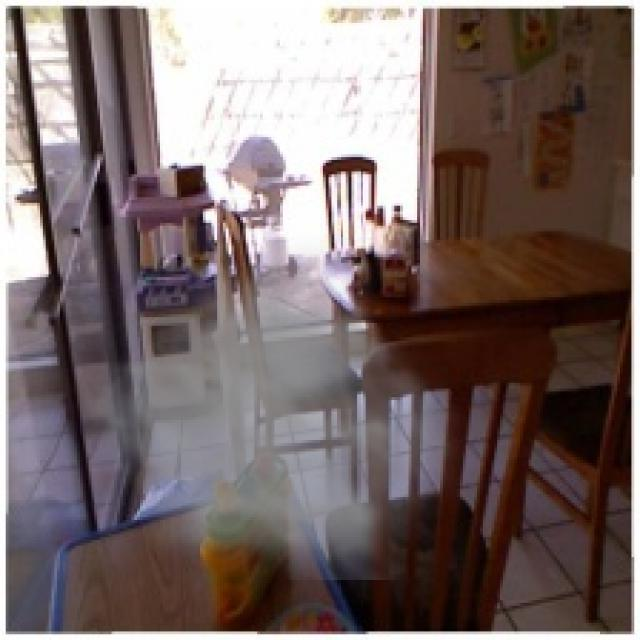smoke: (72, 231, 477, 580)
